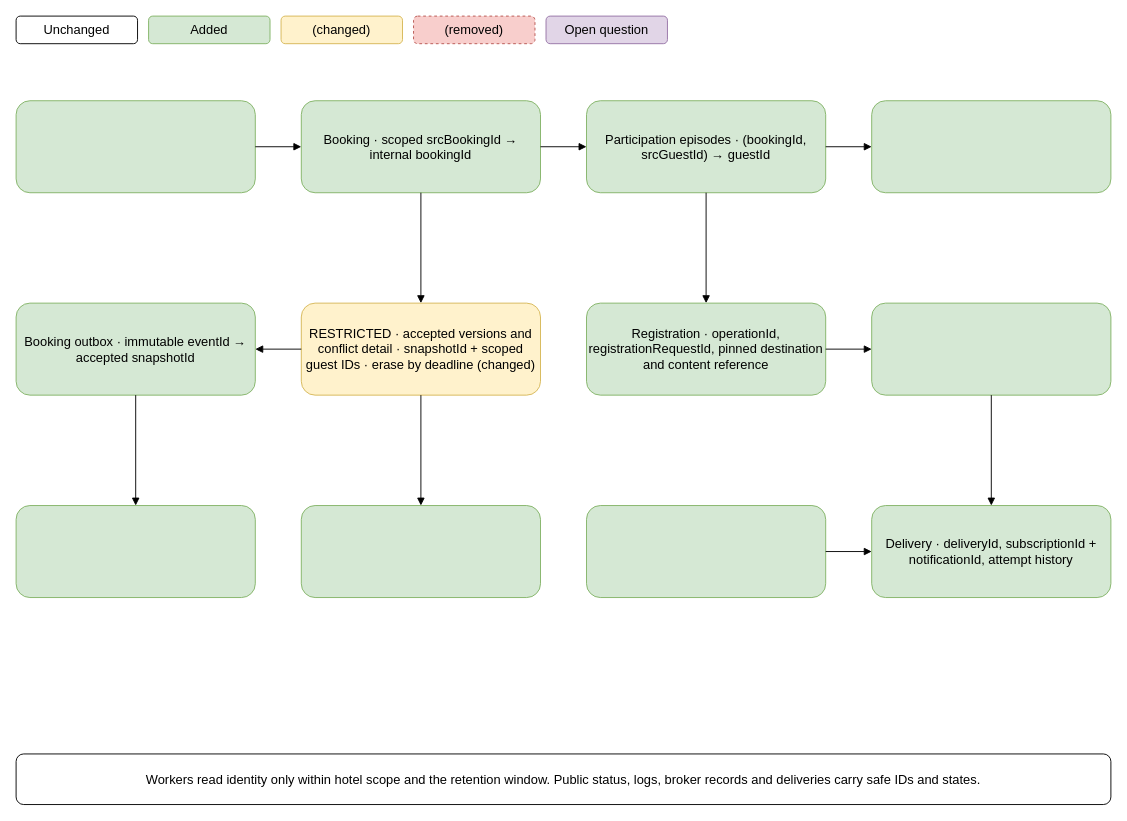
The diagram is 1127 pixels wide and 821 high, and some of its shapes have lost their labels. Here are the shapes that lost their labels. From the top down, the centre of each, then its label:
At [135,146]: "Provisioned integration / hotel scope · providerId, propertyId, timeZoneId".
At [991,146]: "Attendance · attendanceEventId, actor, occurredAt, correction target".
At [991,348]: "Notification outbox · stable notificationId, operationId and safe status".
At [135,551]: "Kafka · encoded scoped source key and opaque references only".
At [420,551]: "C01 · identity-free tombstone after erasure and post-erasure retry response".
At [706,551]: "Subscription · subscriptionId, hotel scope, external endpoint and key reference".
